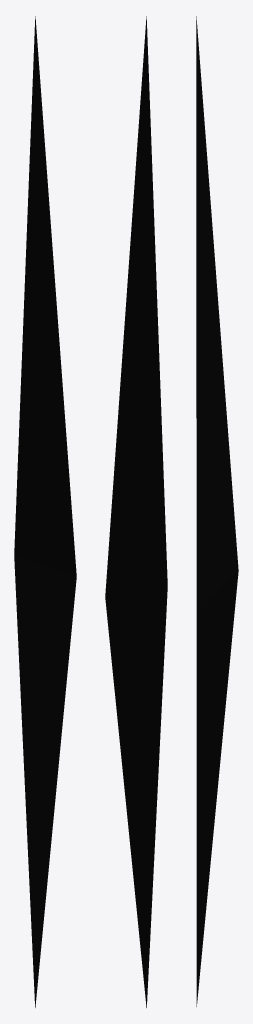
3 views of the same model, side by side, from view 1: azimuth 30°, elevation 25°; view 2: azimuth 210°, elevation 25°; view 3: azimuth 270°, elevation 25° (orthographic).
Bounding box in the file's own units: 0.000839 × 0.0192 × 0.00074.
Materials: 1 (1 with a texture image).
